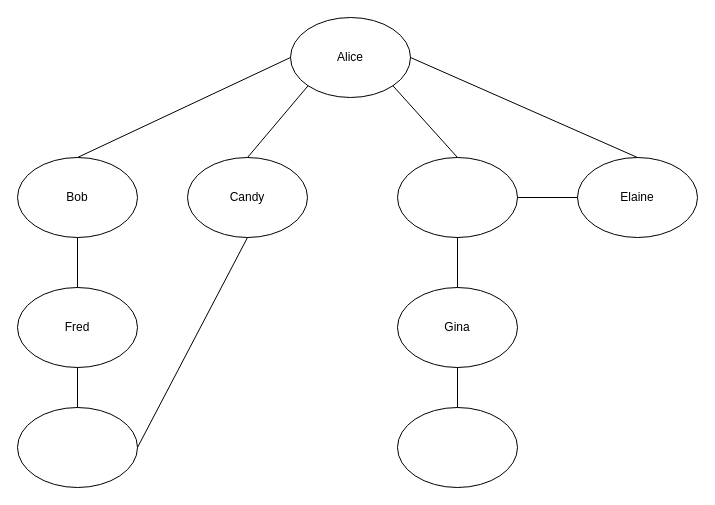
Some shapes in this 715 by 505 pixel diagram are drawn without their labels. The centre of each missing label's shape, as x and y in pixels:
Derek: (457,197)
Helen: (77,447)
Irena: (457,447)
